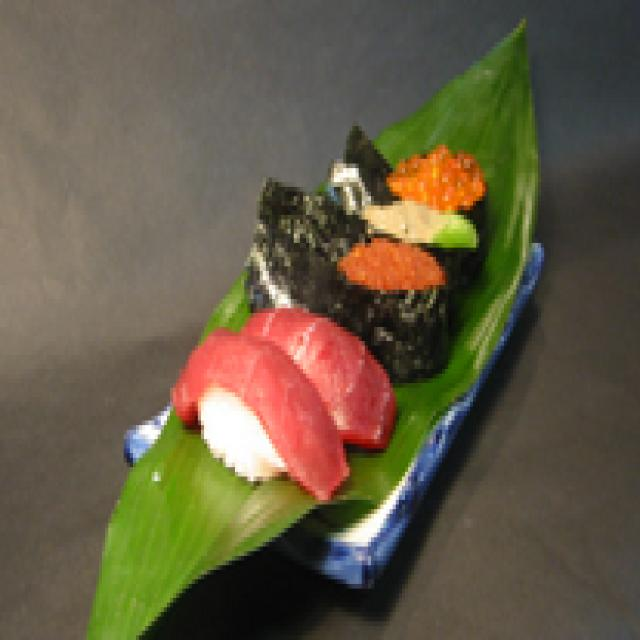寿司卷物: (161, 94, 504, 524)
